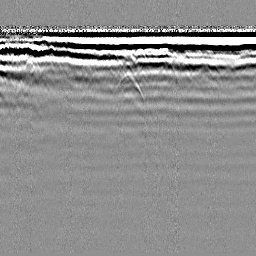cavity: (113, 71, 143, 98)
